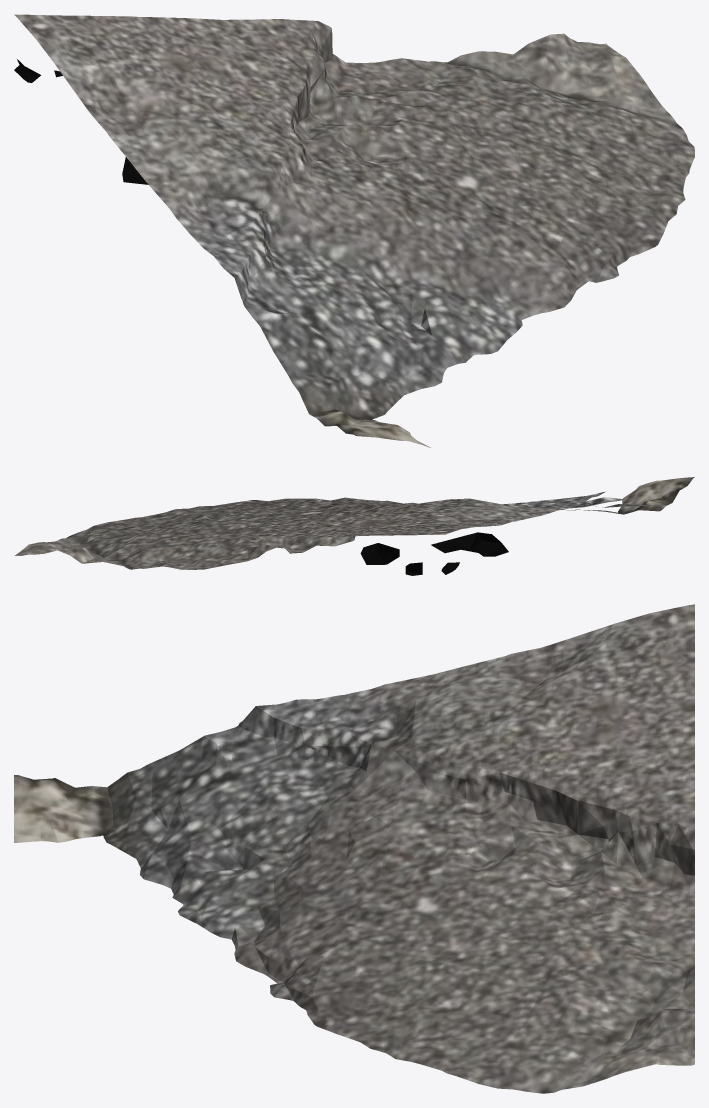
3 renders of one model, top to bottom at view 1: azimuth 30°, elevation 25°; view 2: azimuth 150°, elevation 25°; view 3: azimuth 270°, elevation 25°, orthographic. The views are drawn at different scales.
Size of the model in its own units: 0.8374 by 0.2735 by 0.8374.
Materials: 2 (2 with a texture image).
